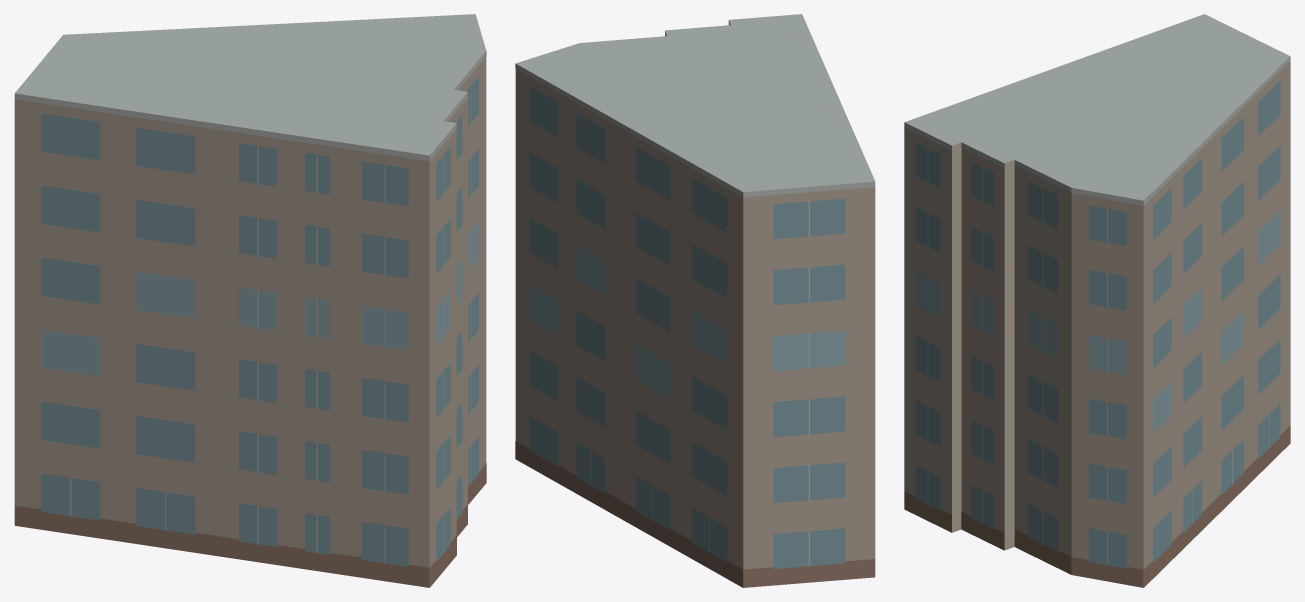
The model's file is survey-upis-32884804.glb.
The picture shows the model from 3 angles, left to right: view 1: azimuth 30°, elevation 25°; view 2: azimuth 150°, elevation 25°; view 3: azimuth 270°, elevation 25°; orthographic projection. The views are drawn at different scales.
Parts seen in each view (by area): view 1: survey-upis-32884804.tmp; view 2: survey-upis-32884804.tmp; view 3: survey-upis-32884804.tmp.
Boxes of the visible parts, x1=… form: survey-upis-32884804.tmp: x1=14, y1=14, x2=486, y2=587; survey-upis-32884804.tmp: x1=515, y1=14, x2=875, y2=587; survey-upis-32884804.tmp: x1=904, y1=14, x2=1290, y2=587.
Size of the model in its own units: 18.93 by 18.3 by 16.55.
